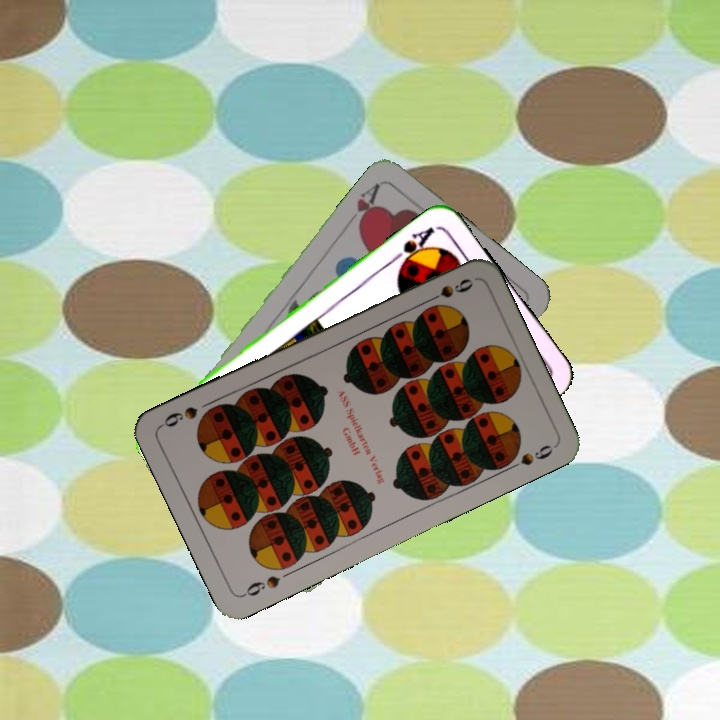HA: (352, 179, 383, 231)
S9: (420, 274, 476, 307), (238, 571, 283, 600)
SA: (388, 222, 437, 271)
